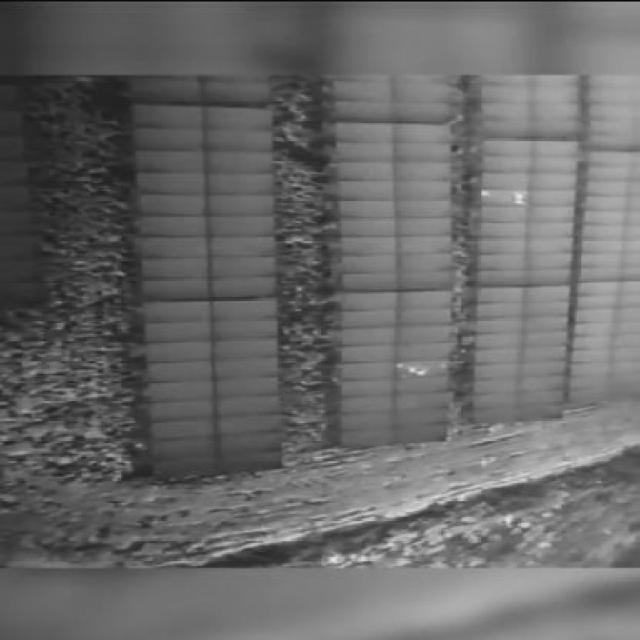hotspot: (511, 192, 527, 200), (478, 188, 491, 197), (408, 364, 417, 373), (515, 198, 528, 204), (416, 370, 429, 375)
